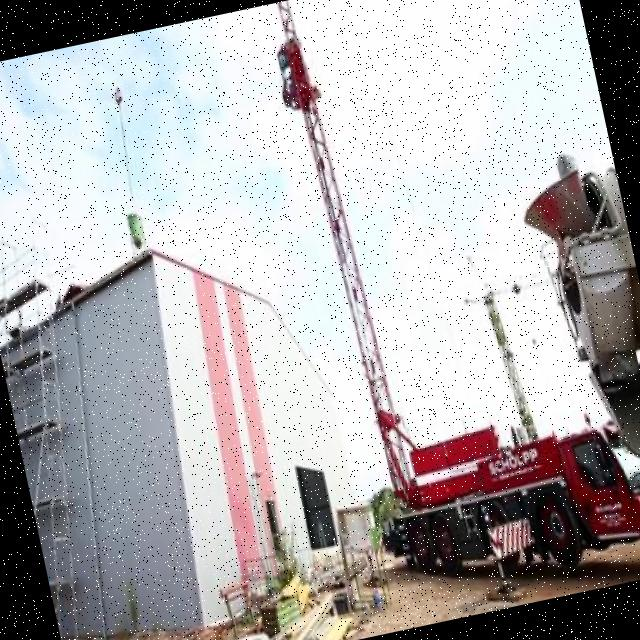Mobile Crane: (261, 0, 640, 605)
